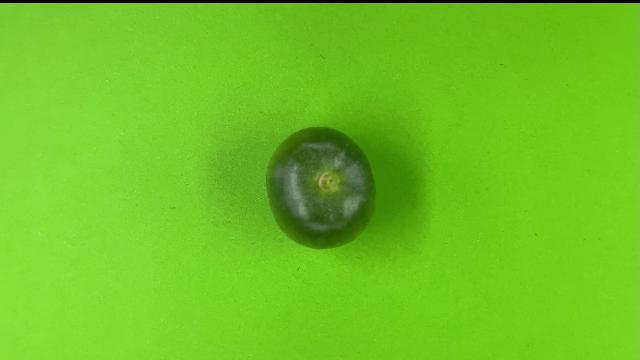Fruit Maturation: (264, 126, 377, 250)
